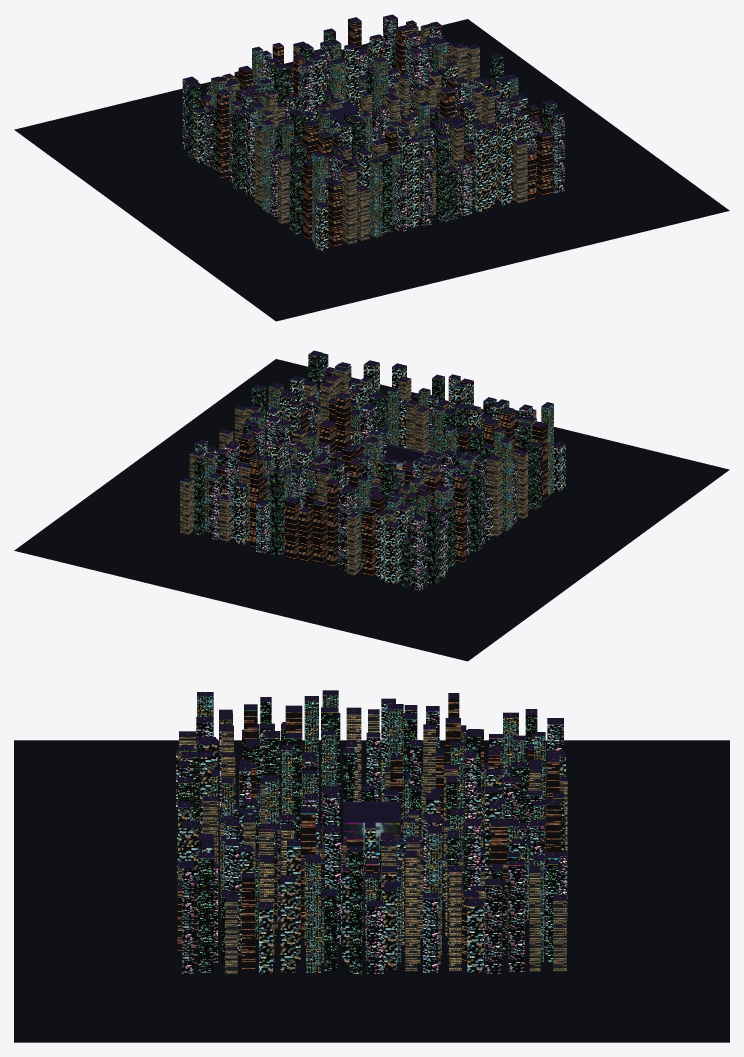
The model's file is street.glb.
The picture shows the model from 3 angles, top to bottom: view 1: azimuth 30°, elevation 25°; view 2: azimuth 150°, elevation 25°; view 3: azimuth 270°, elevation 25°; orthographic projection. The views are drawn at different scales.
Visible parts, largest first — view 1: mesh__ground_far, mesh__fac_1, mesh__fac_0, mesh__fac_3, mesh__fac_5, mesh__roof, mesh__fac_2, mesh__fac_4; view 2: mesh__ground_far, mesh__fac_4, mesh__fac_1, mesh__fac_5, mesh__roof, mesh__fac_3, mesh__fac_2, mesh__fac_0, mesh__monument; view 3: mesh__ground_far, mesh__fac_1, mesh__roof, mesh__fac_3, mesh__fac_2, mesh__fac_5, mesh__fac_0, mesh__fac_4, mesh__monument, mesh__bb_w1.
Part boxes in pixels (x1,y1,x2,y2): mesh__ground_far: (14,19,729,321); mesh__fac_1: (182,17,564,231); mesh__fac_0: (193,37,529,252); mesh__fac_3: (229,26,542,244); mesh__fac_5: (187,22,556,234); mesh__roof: (183,14,564,207); mesh__fac_2: (211,27,518,243); mesh__fac_4: (201,19,552,247); mesh__ground_far: (14,359,729,661); mesh__fac_4: (215,380,547,576); mesh__fac_1: (195,355,532,590); mesh__fac_5: (194,353,541,588); mesh__roof: (180,350,565,541); mesh__fac_3: (180,369,536,575); mesh__fac_2: (203,385,553,569); mesh__fac_0: (217,363,565,584); mesh__monument: (312,444,423,464); mesh__ground_far: (14,740,729,1042); mesh__fac_1: (179,703,567,973); mesh__roof: (176,690,567,908); mesh__fac_3: (178,714,567,973); mesh__fac_2: (180,695,545,972); mesh__fac_5: (177,702,566,973); mesh__fac_0: (176,728,565,973); mesh__fac_4: (177,698,565,970); mesh__monument: (280,801,400,930); mesh__bb_w1: (344,822,399,844).
Size of the model in its own units: 840 by 161 by 840.
78 materials, 49 textured.
